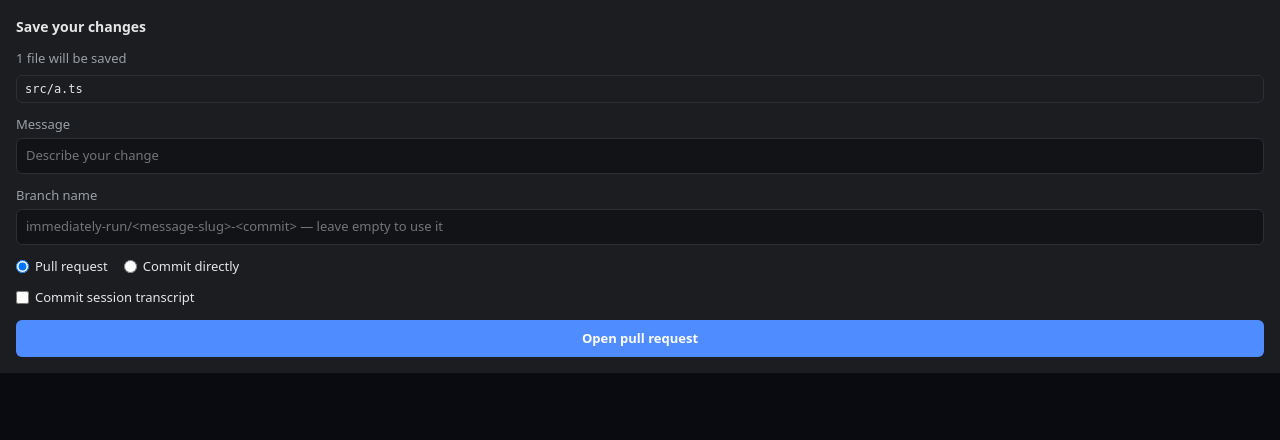
Contribute — the transcript request checkbox (R3-659) › a run with the box checked sends transcriptRequested: true and nothing else transcript-shaped (R-CT-6)
Click the checkbox labelled "Commit session transcript" at {"x": 22, "y": 298}, box [16,291,29,304]
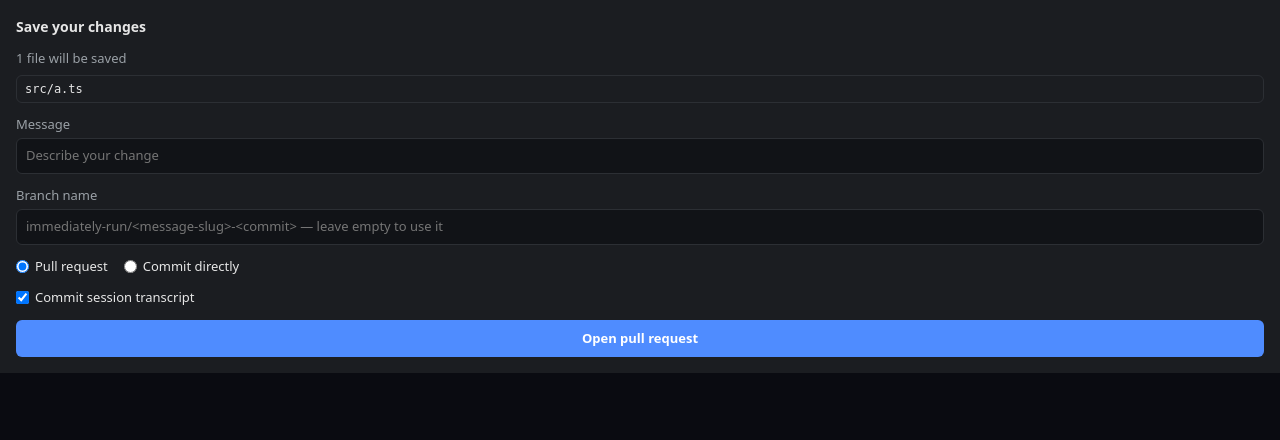
Click the button "Open pull request" at {"x": 640, "y": 338}, box [16,320,1264,357]
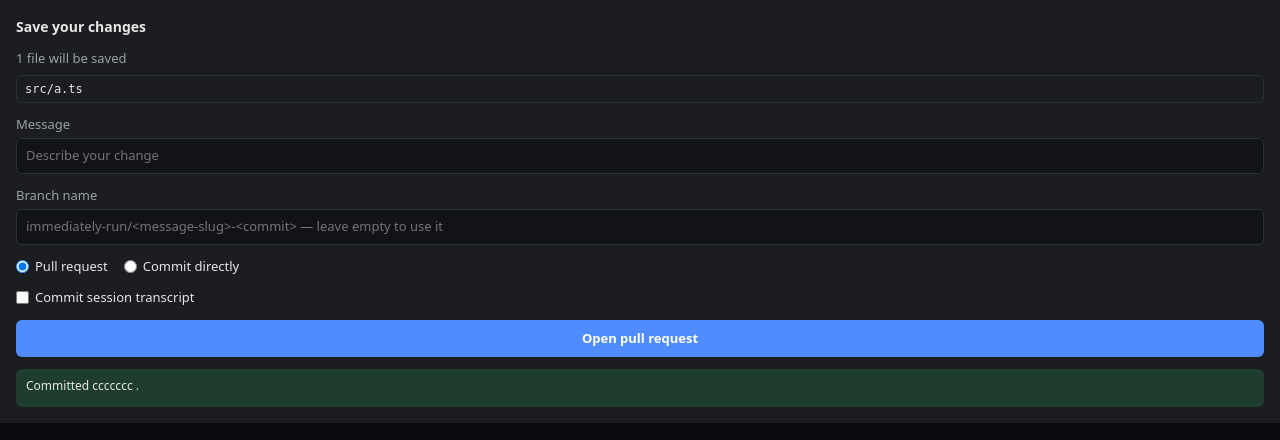
Check: the text "Committed" is shown, box [26,377,89,394]
